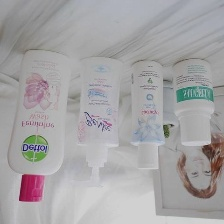cleaning_solution: (3, 45, 76, 204), (67, 53, 126, 192), (126, 58, 166, 170), (170, 57, 216, 148)
